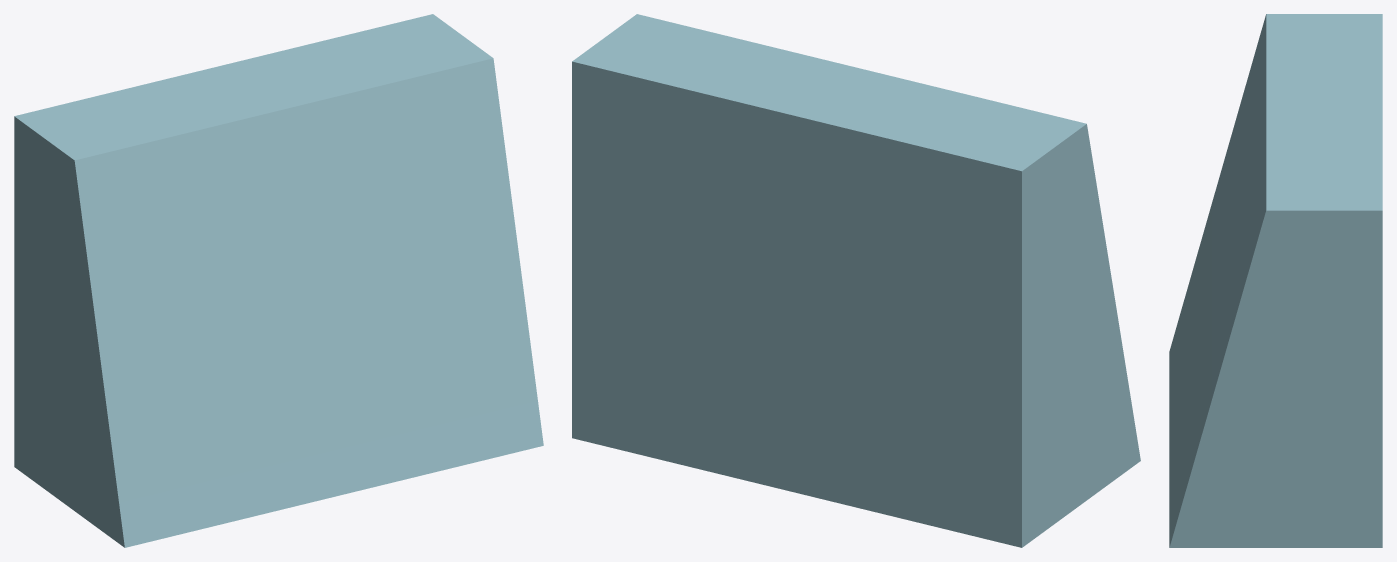
File: Terrain_Modular_Tiles_Ice_Cliff_Side_Outer_01.fbx
3 renders of one model, left to right at view 1: azimuth 30°, elevation 25°; view 2: azimuth 150°, elevation 25°; view 3: azimuth 270°, elevation 25°, orthographic. The views are drawn at different scales.
Visible parts, largest first — view 1: Terrain_Modular_Tiles_Ice_Cliff_Side_Outer_01; view 2: Terrain_Modular_Tiles_Ice_Cliff_Side_Outer_01; view 3: Terrain_Modular_Tiles_Ice_Cliff_Side_Outer_01.
Part boxes in pixels (left/top/right/bottom): Terrain_Modular_Tiles_Ice_Cliff_Side_Outer_01: left=14, top=14, right=543, bottom=547; Terrain_Modular_Tiles_Ice_Cliff_Side_Outer_01: left=572, top=14, right=1140, bottom=547; Terrain_Modular_Tiles_Ice_Cliff_Side_Outer_01: left=1169, top=14, right=1382, bottom=547.
Bounding box in the file's own units: 118 × 94.49 × 54.07.
